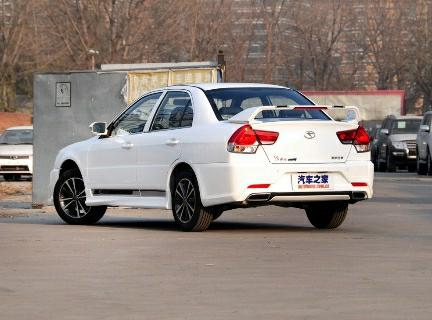car: (42, 83, 378, 237)
